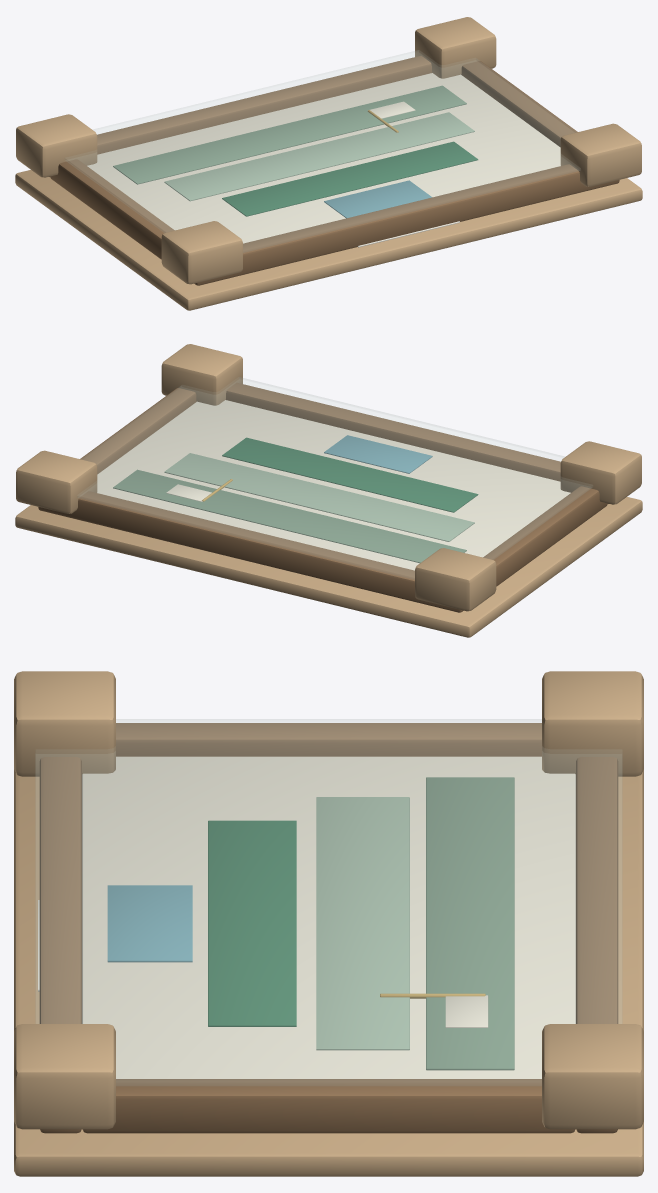
Rendered from delivery_fixture_product_poster.glb.
3 renders of one model, top to bottom at view 1: azimuth 30°, elevation 25°; view 2: azimuth 150°, elevation 25°; view 3: azimuth 270°, elevation 25°, orthographic. The views are drawn at different scales.
Parts seen in each view (by area): view 1: POSTER_FACE_PROTECTOR, POSTER_COURSE_ART, POSTER_BACK_FACE_PROTECTOR, POSTER_FRAME_SOUTH, POSTER_ART_BAND_01, POSTER_ART_BAND_02, POSTER_FRAME_NORTH, POSTER_ART_BAND_03, POSTER_FRAME_WEST, POSTER_CORNER_PROTECTOR_SW, POSTER_CORNER_PROTECTOR_SE, POSTER_CORNER_PROTECTOR_NW (+4 smaller); view 2: POSTER_FACE_PROTECTOR, POSTER_COURSE_ART, POSTER_BACK_FACE_PROTECTOR, POSTER_FRAME_NORTH, POSTER_ART_BAND_02, POSTER_ART_BAND_01, POSTER_FRAME_SOUTH, POSTER_ART_BAND_03, POSTER_FRAME_WEST, POSTER_CORNER_PROTECTOR_NW, POSTER_CORNER_PROTECTOR_NE, POSTER_CORNER_PROTECTOR_SW (+4 smaller); view 3: POSTER_FACE_PROTECTOR, POSTER_COURSE_ART, POSTER_BACK_FACE_PROTECTOR, POSTER_ART_BAND_01, POSTER_FRAME_EAST, POSTER_ART_BAND_02, POSTER_ART_BAND_03, POSTER_FRAME_WEST, POSTER_FRAME_NORTH, POSTER_FRAME_SOUTH, POSTER_CORNER_PROTECTOR_NE, POSTER_CORNER_PROTECTOR_SE (+4 smaller).
Part boxes in pixels (x1,y1,x2,y2): POSTER_FACE_PROTECTOR: (66, 50, 579, 252); POSTER_COURSE_ART: (87, 73, 560, 243); POSTER_BACK_FACE_PROTECTOR: (15, 170, 642, 310); POSTER_FRAME_SOUTH: (194, 164, 619, 285); POSTER_ART_BAND_01: (113, 85, 466, 184); POSTER_ART_BAND_02: (164, 112, 474, 201); POSTER_FRAME_NORTH: (49, 55, 431, 176); POSTER_ART_BAND_03: (222, 141, 478, 216); POSTER_FRAME_WEST: (50, 159, 174, 259); POSTER_CORNER_PROTECTOR_SW: (161, 221, 242, 284); POSTER_CORNER_PROTECTOR_SE: (560, 123, 641, 186); POSTER_CORNER_PROTECTOR_NW: (16, 114, 97, 177); POSTER_FACE_PROTECTOR: (78, 377, 591, 579); POSTER_COURSE_ART: (97, 400, 570, 570); POSTER_BACK_FACE_PROTECTOR: (15, 497, 642, 637); POSTER_FRAME_NORTH: (38, 491, 463, 612); POSTER_ART_BAND_02: (164, 453, 474, 541); POSTER_ART_BAND_01: (113, 469, 466, 563); POSTER_FRAME_SOUTH: (226, 382, 608, 503); POSTER_ART_BAND_03: (222, 437, 478, 512); POSTER_FRAME_WEST: (483, 486, 607, 586); POSTER_CORNER_PROTECTOR_NW: (415, 548, 496, 611); POSTER_CORNER_PROTECTOR_NE: (16, 450, 97, 513); POSTER_CORNER_PROTECTOR_SW: (560, 441, 641, 504); POSTER_FACE_PROTECTOR: (35, 719, 622, 1085); POSTER_COURSE_ART: (82, 756, 575, 1078); POSTER_BACK_FACE_PROTECTOR: (14, 769, 643, 1176); POSTER_ART_BAND_01: (426, 777, 514, 1070); POSTER_FRAME_EAST: (82, 1079, 575, 1133); POSTER_ART_BAND_02: (316, 797, 409, 1050); POSTER_ART_BAND_03: (208, 820, 296, 1026); POSTER_FRAME_WEST: (116, 723, 541, 756); POSTER_FRAME_NORTH: (576, 757, 618, 1133); POSTER_FRAME_SOUTH: (39, 757, 81, 1133); POSTER_CORNER_PROTECTOR_NE: (542, 1024, 643, 1129); POSTER_CORNER_PROTECTOR_SE: (14, 1024, 115, 1129).
Size of the model in its own units: 0.56 by 0.07 by 0.37.
